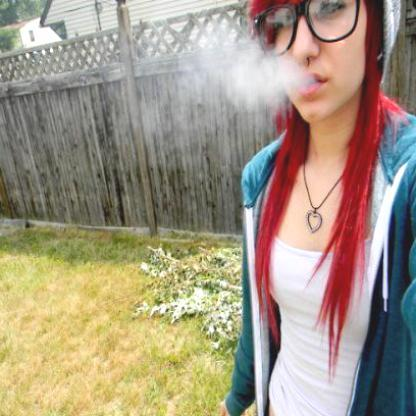person: (238, 0, 415, 415)
smoke: (219, 38, 306, 115)
